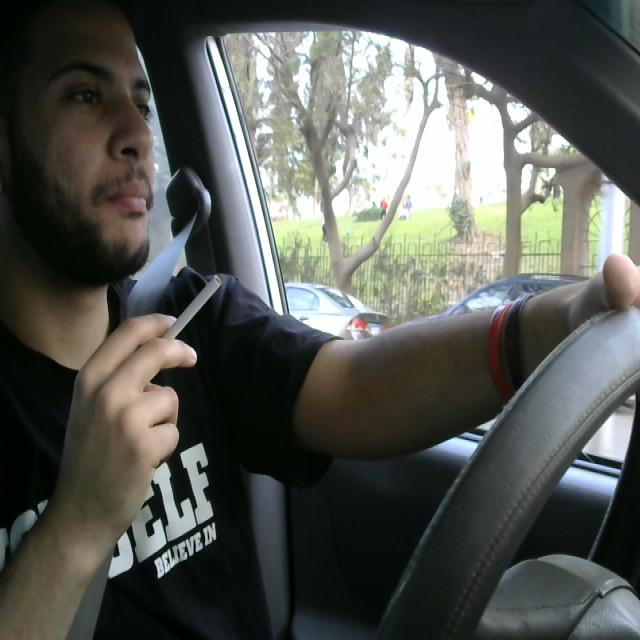smoking: (142, 271, 237, 368)
